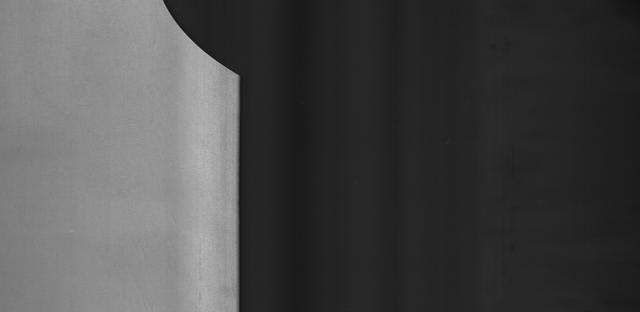crescent_gap: (154, 0, 260, 86)
